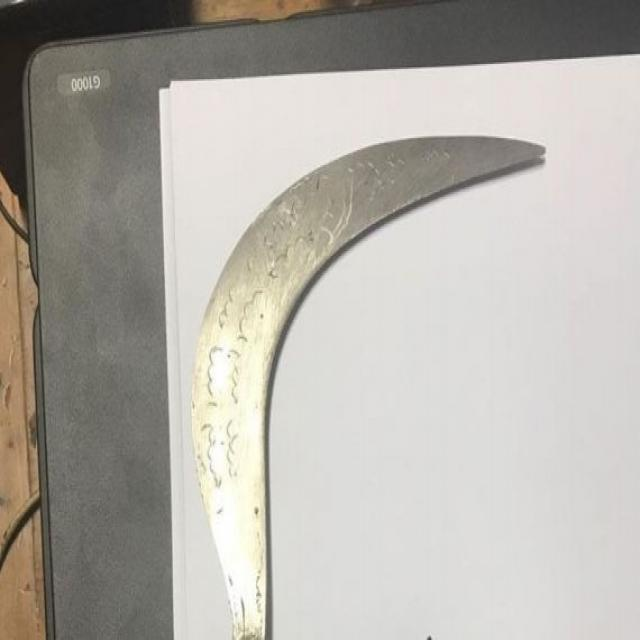machete: (185, 134, 548, 640)
